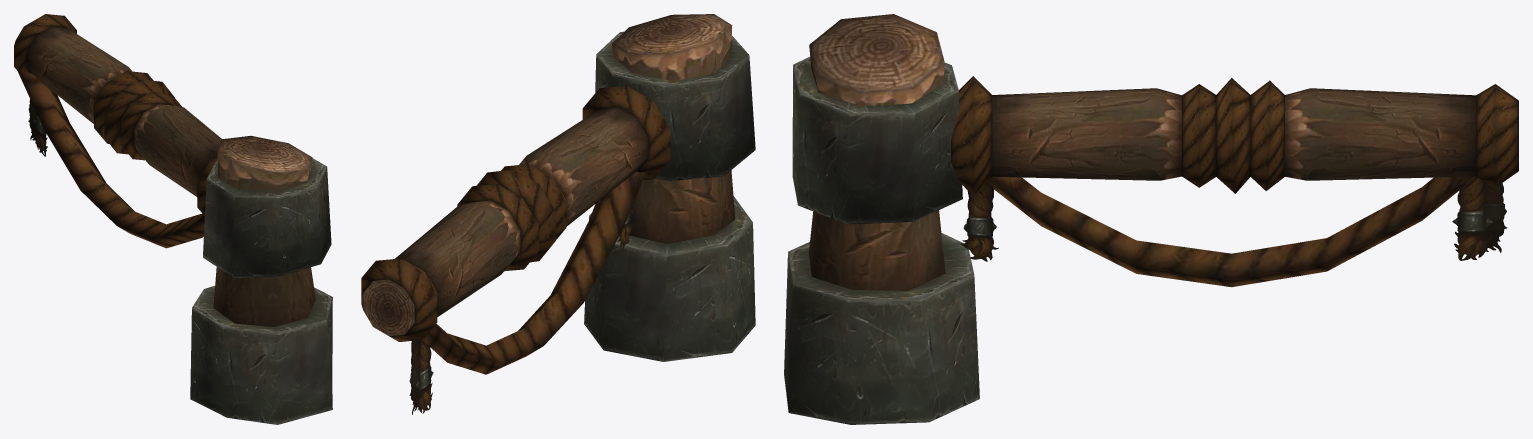
3 views of the same model, side by side, from view 1: azimuth 30°, elevation 25°; view 2: azimuth 150°, elevation 25°; view 3: azimuth 270°, elevation 25° (orthographic). The views are drawn at different scales.
Size of the model in its own units: 0.8071 by 1.6 by 3.08.
3 materials, 3 textured.
